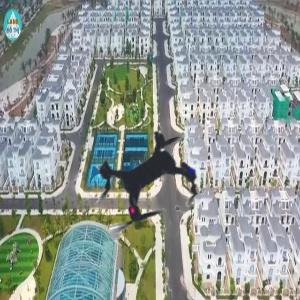drone: (57, 92, 243, 278)
